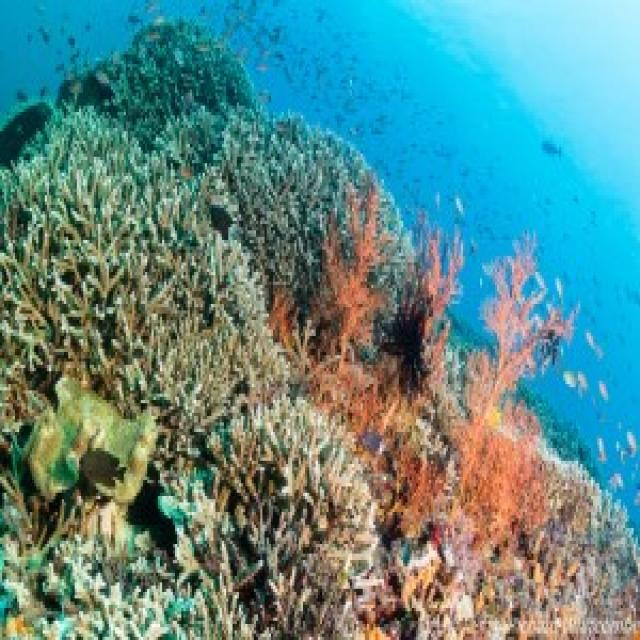Healthy: (1, 107, 372, 638), (310, 187, 562, 558), (413, 462, 639, 638), (61, 20, 253, 145), (242, 132, 353, 260)
